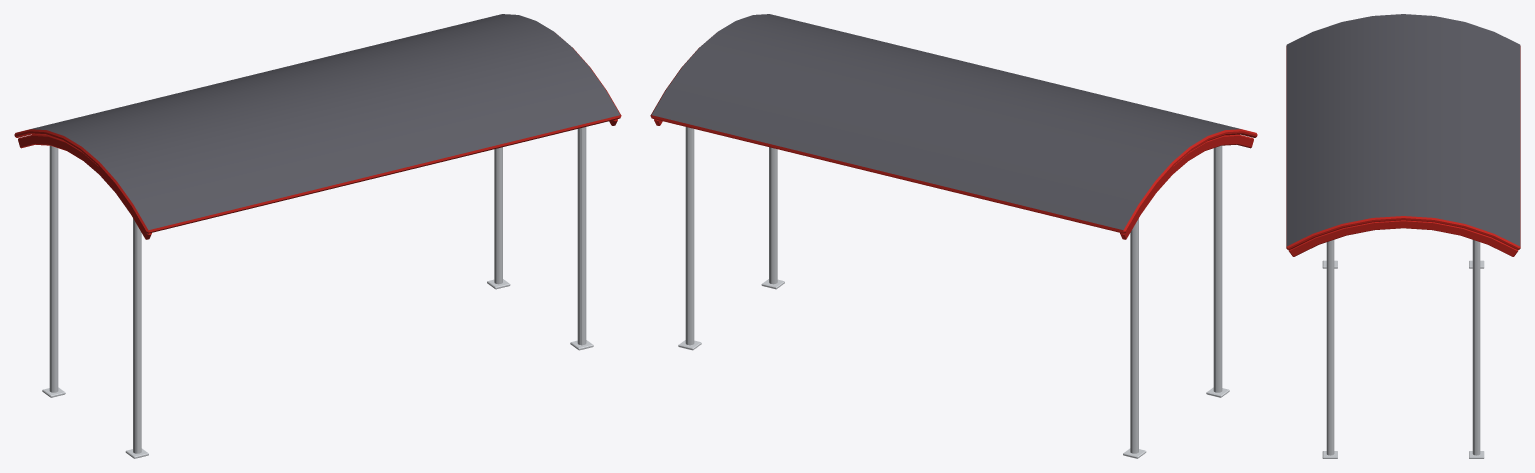
Rendered from techo_curvo_mediano.glb.
3 renders of one model, left to right at view 1: azimuth 30°, elevation 25°; view 2: azimuth 150°, elevation 25°; view 3: azimuth 270°, elevation 25°, orthographic. The views are drawn at different scales.
Visible parts, largest first — view 1: pieza_tramo, pieza_punta_izq, pieza_punta_der; view 2: pieza_tramo, pieza_punta_izq, pieza_punta_der; view 3: pieza_tramo, pieza_punta_der, pieza_punta_izq.
Boxes of the visible parts, x1,y1,x2,y2 form: pieza_tramo: [86, 27, 565, 219]; pieza_punta_izq: [14, 115, 204, 458]; pieza_punta_der: [447, 14, 621, 350]; pieza_tramo: [706, 27, 1185, 219]; pieza_punta_izq: [1067, 115, 1257, 458]; pieza_punta_der: [650, 14, 824, 350]; pieza_tramo: [1286, 37, 1520, 223]; pieza_punta_der: [1286, 192, 1520, 458]; pieza_punta_izq: [1286, 14, 1520, 268].
Size of what is drawn, in the model's own units: 2.5 by 1.41 by 1.22.
